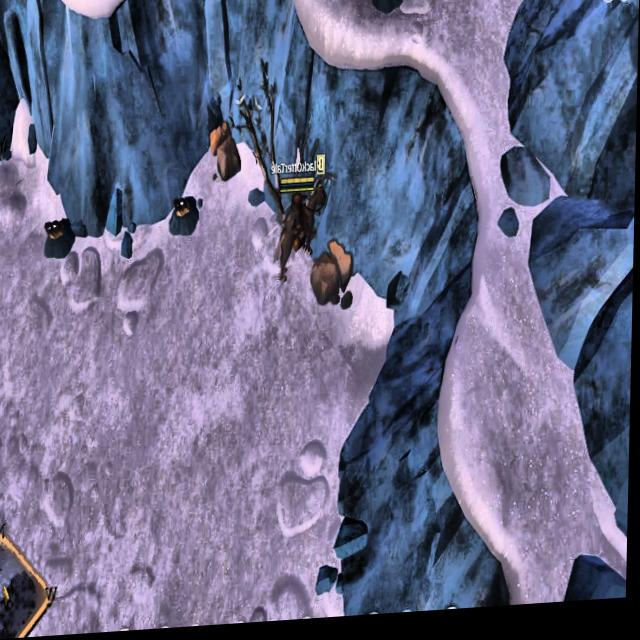copperore: (170, 187, 203, 242), (43, 211, 75, 264), (367, 0, 409, 21)
limestone: (309, 241, 359, 322), (208, 119, 247, 184)
